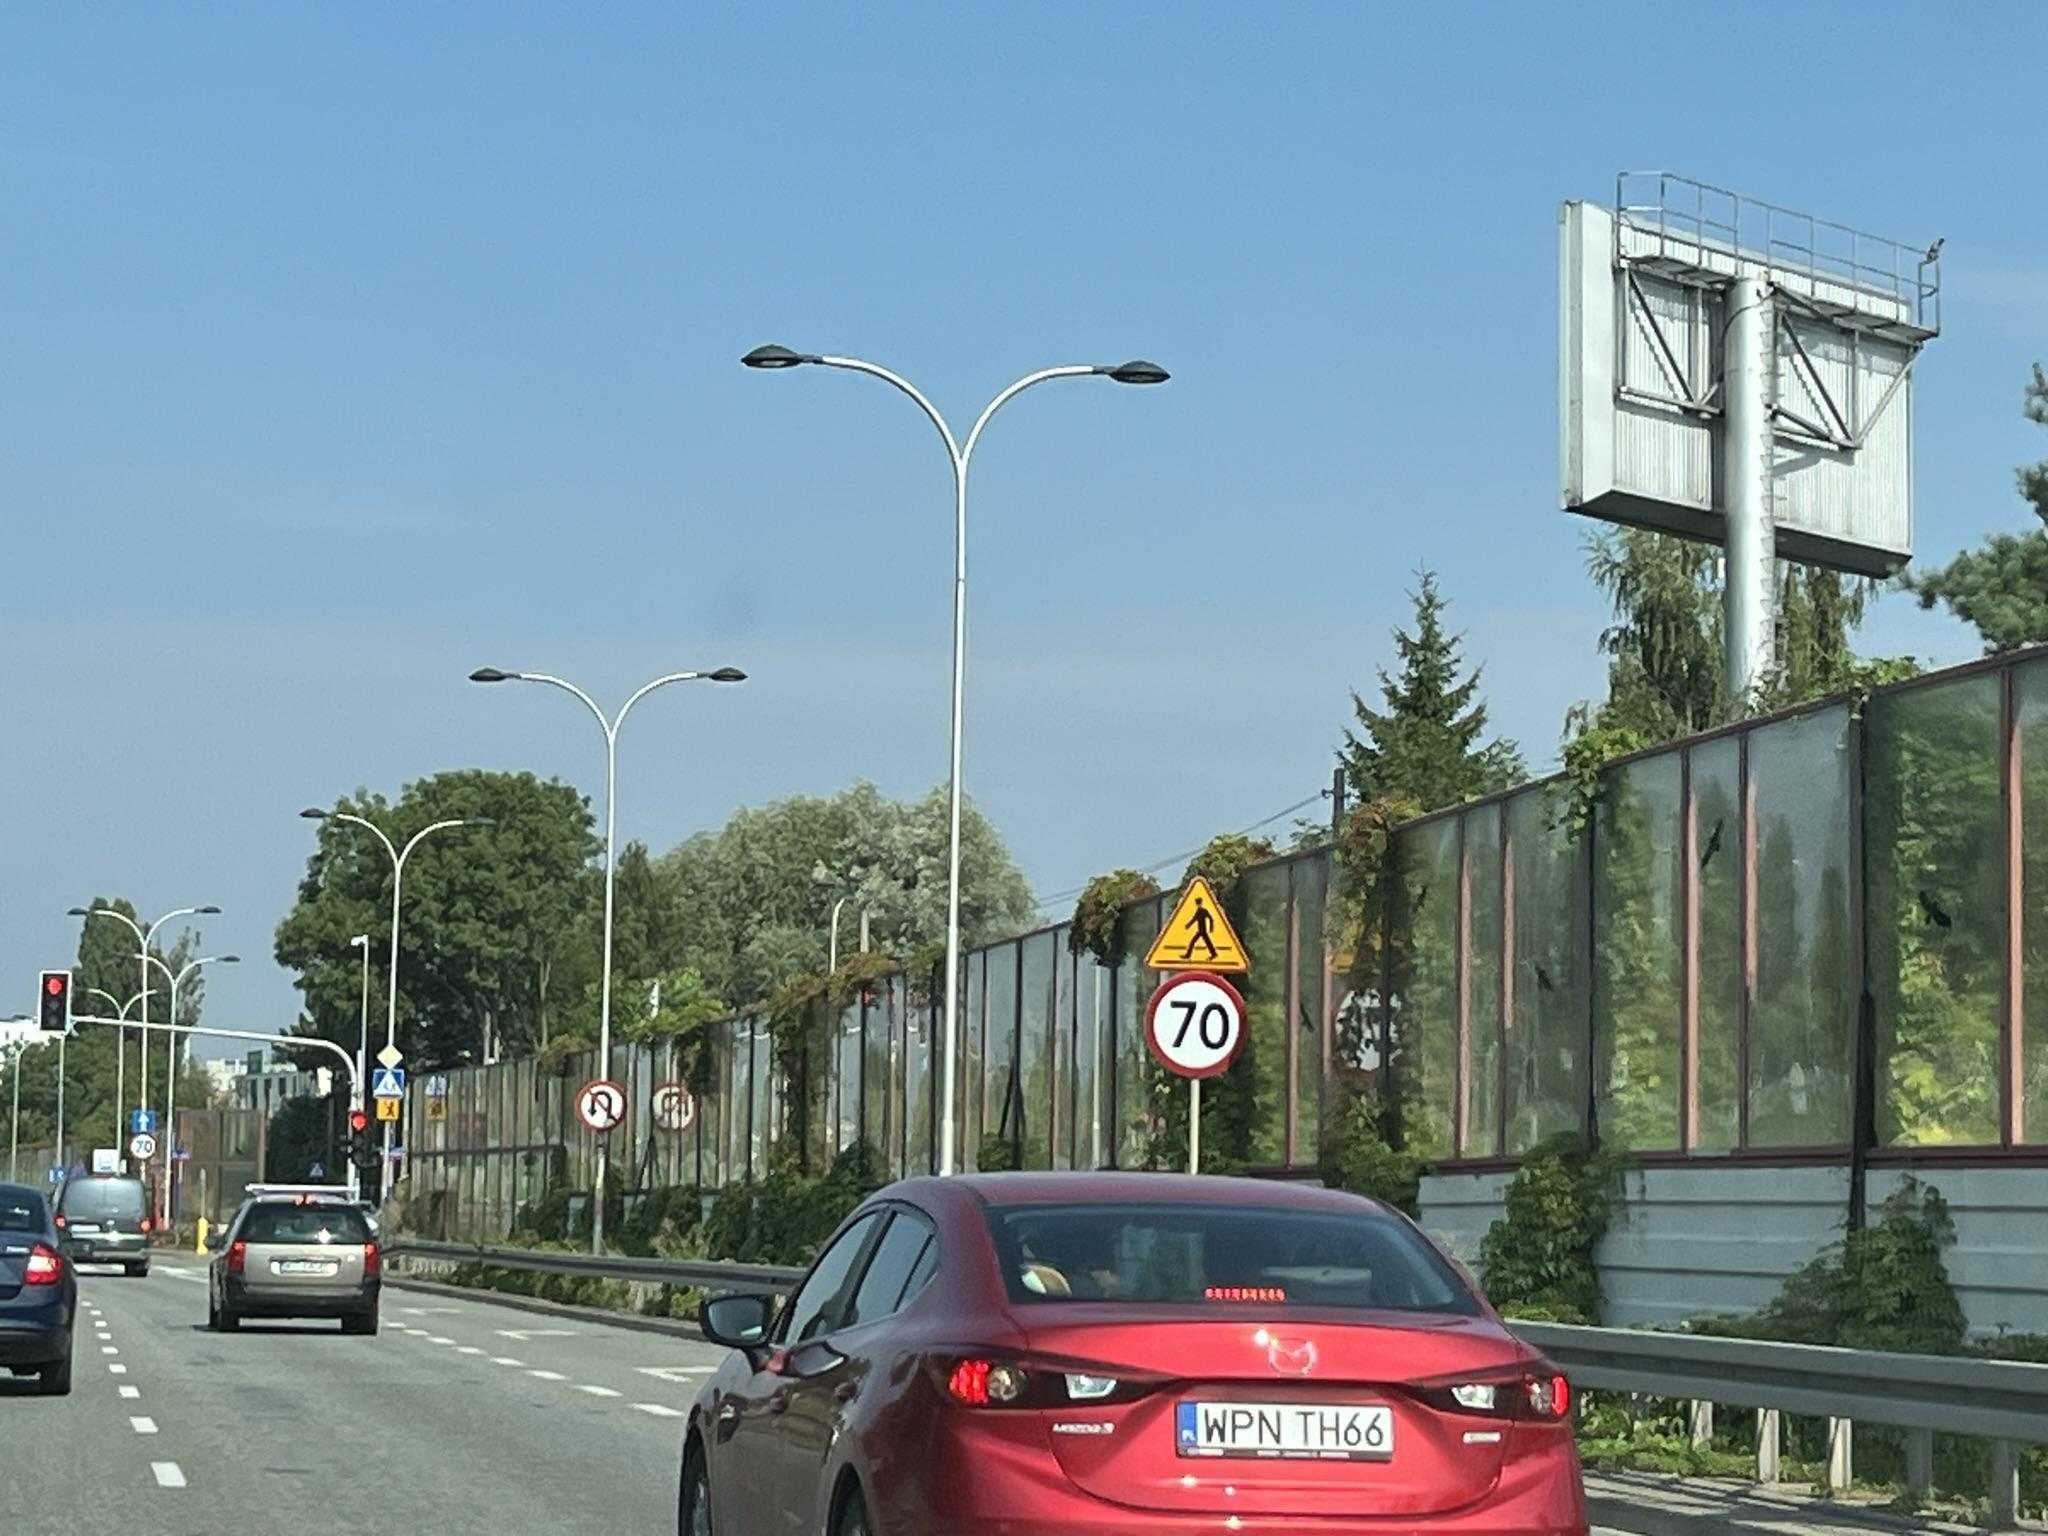information: (373, 1068, 405, 1097), (377, 1044, 403, 1070), (134, 1110, 155, 1134)
other: (376, 1097, 400, 1120)
prohibitory: (1143, 971, 1250, 1078), (576, 1079, 631, 1131), (129, 1134, 158, 1160)
warning: (1140, 874, 1255, 973)
